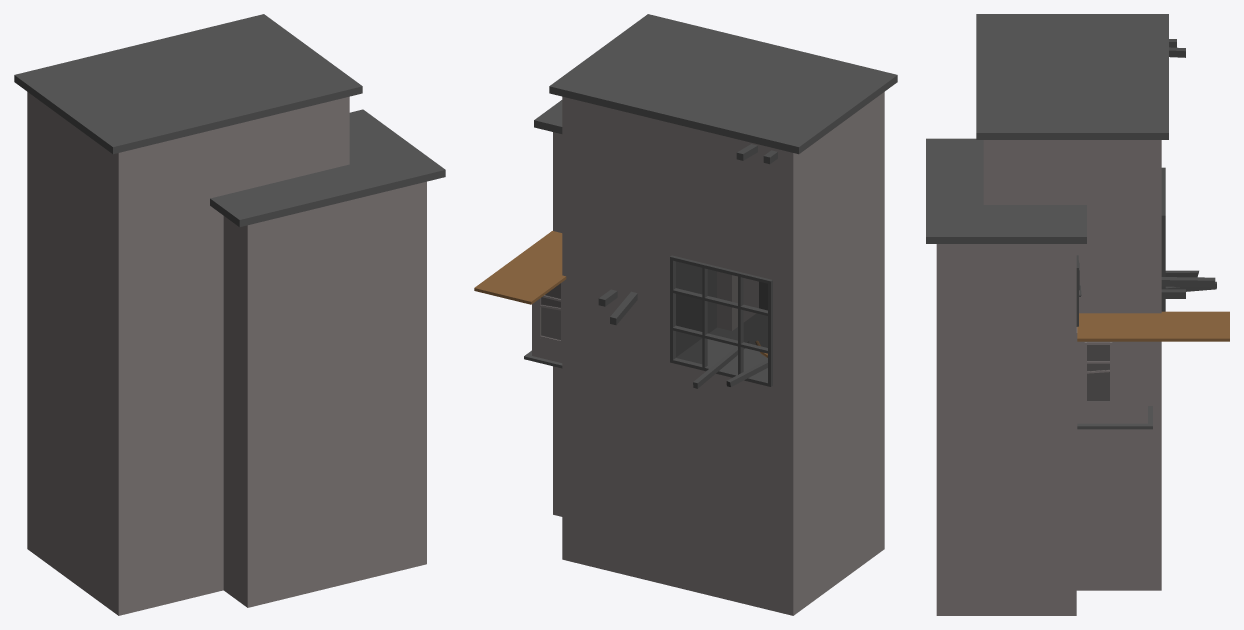
The model's file is Batiment1.fbx.
The picture shows the model from 3 angles, left to right: view 1: azimuth 30°, elevation 25°; view 2: azimuth 150°, elevation 25°; view 3: azimuth 270°, elevation 25°; orthographic projection. The views are drawn at different scales.
Parts seen in each view (by area): view 1: Batiment1; view 2: Batiment1; view 3: Batiment1.
Part boxes in pixels (x1,y1,x2,y2): Batiment1: (14,14,445,615); Batiment1: (474,14,897,615); Batiment1: (926,14,1229,615).
Bounding box in the file's own units: 1075 × 1585 × 944.
